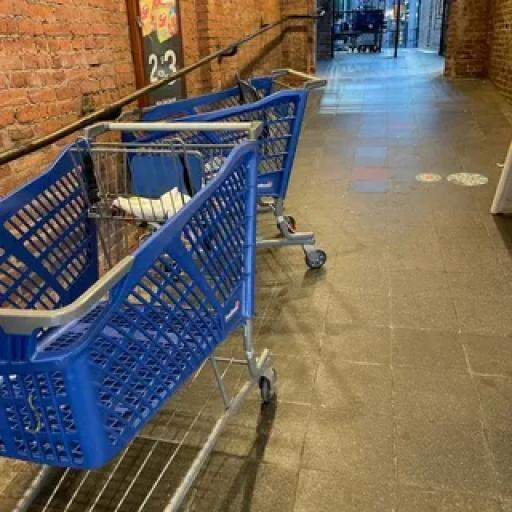shopping_cart: (0, 118, 275, 512), (121, 63, 332, 269)
